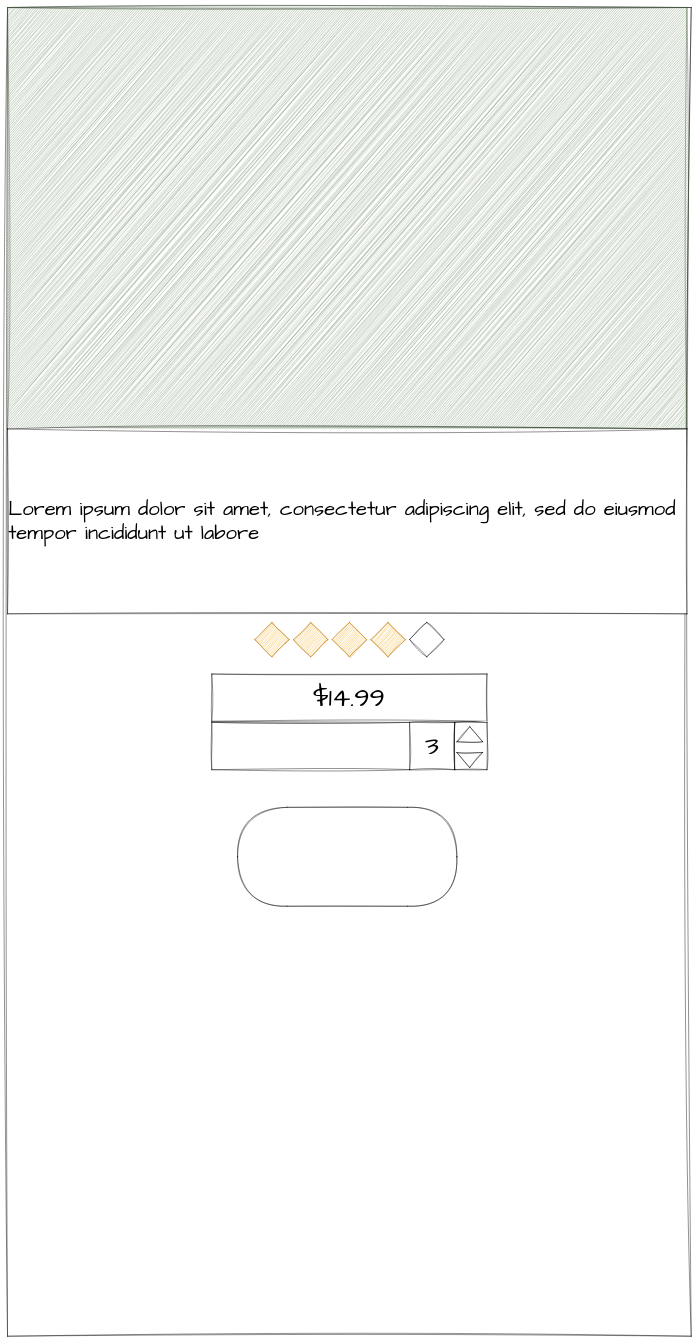
The diagram is 699 pixels wide and 1344 high, and some of its shapes have lost their labels. The shapes that lost their labels are listed below. From the top down, each one's centre as x and y in pixels, then its label:
At (x=311, y=746): "Quantity".
At (x=347, y=856): "ADD TO CART".
